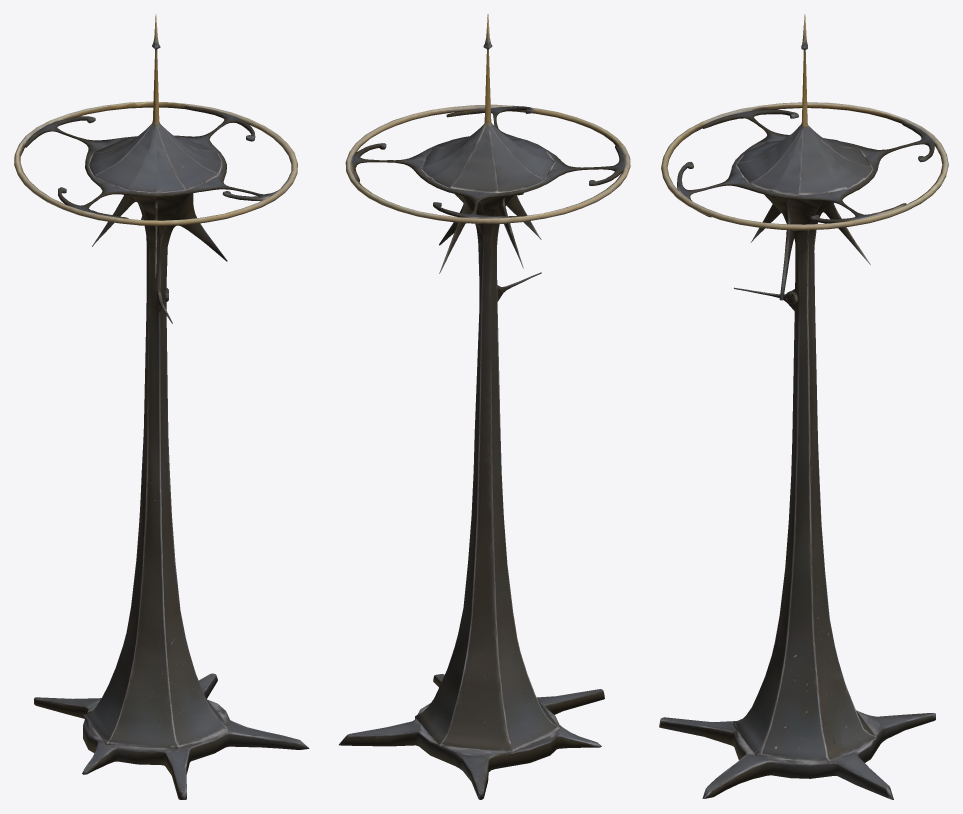
File: star-beacon.glb
3 renders of one model, left to right at view 1: azimuth 30°, elevation 25°; view 2: azimuth 150°, elevation 25°; view 3: azimuth 270°, elevation 25°, orthographic.
Visible parts, largest first — view 1: tripo_node_0802f059-eb1e-4435-a6d2-4e34f76840d2; view 2: tripo_node_0802f059-eb1e-4435-a6d2-4e34f76840d2; view 3: tripo_node_0802f059-eb1e-4435-a6d2-4e34f76840d2.
Boxes of the visible parts, left/top/right/bottom form: tripo_node_0802f059-eb1e-4435-a6d2-4e34f76840d2: left=14, top=14, right=309, bottom=799; tripo_node_0802f059-eb1e-4435-a6d2-4e34f76840d2: left=339, top=14, right=630, bottom=799; tripo_node_0802f059-eb1e-4435-a6d2-4e34f76840d2: left=659, top=14, right=948, bottom=799.
Size of the model in its own units: 0.355 by 0.9995 by 0.3579.
1 material, 1 textured.
